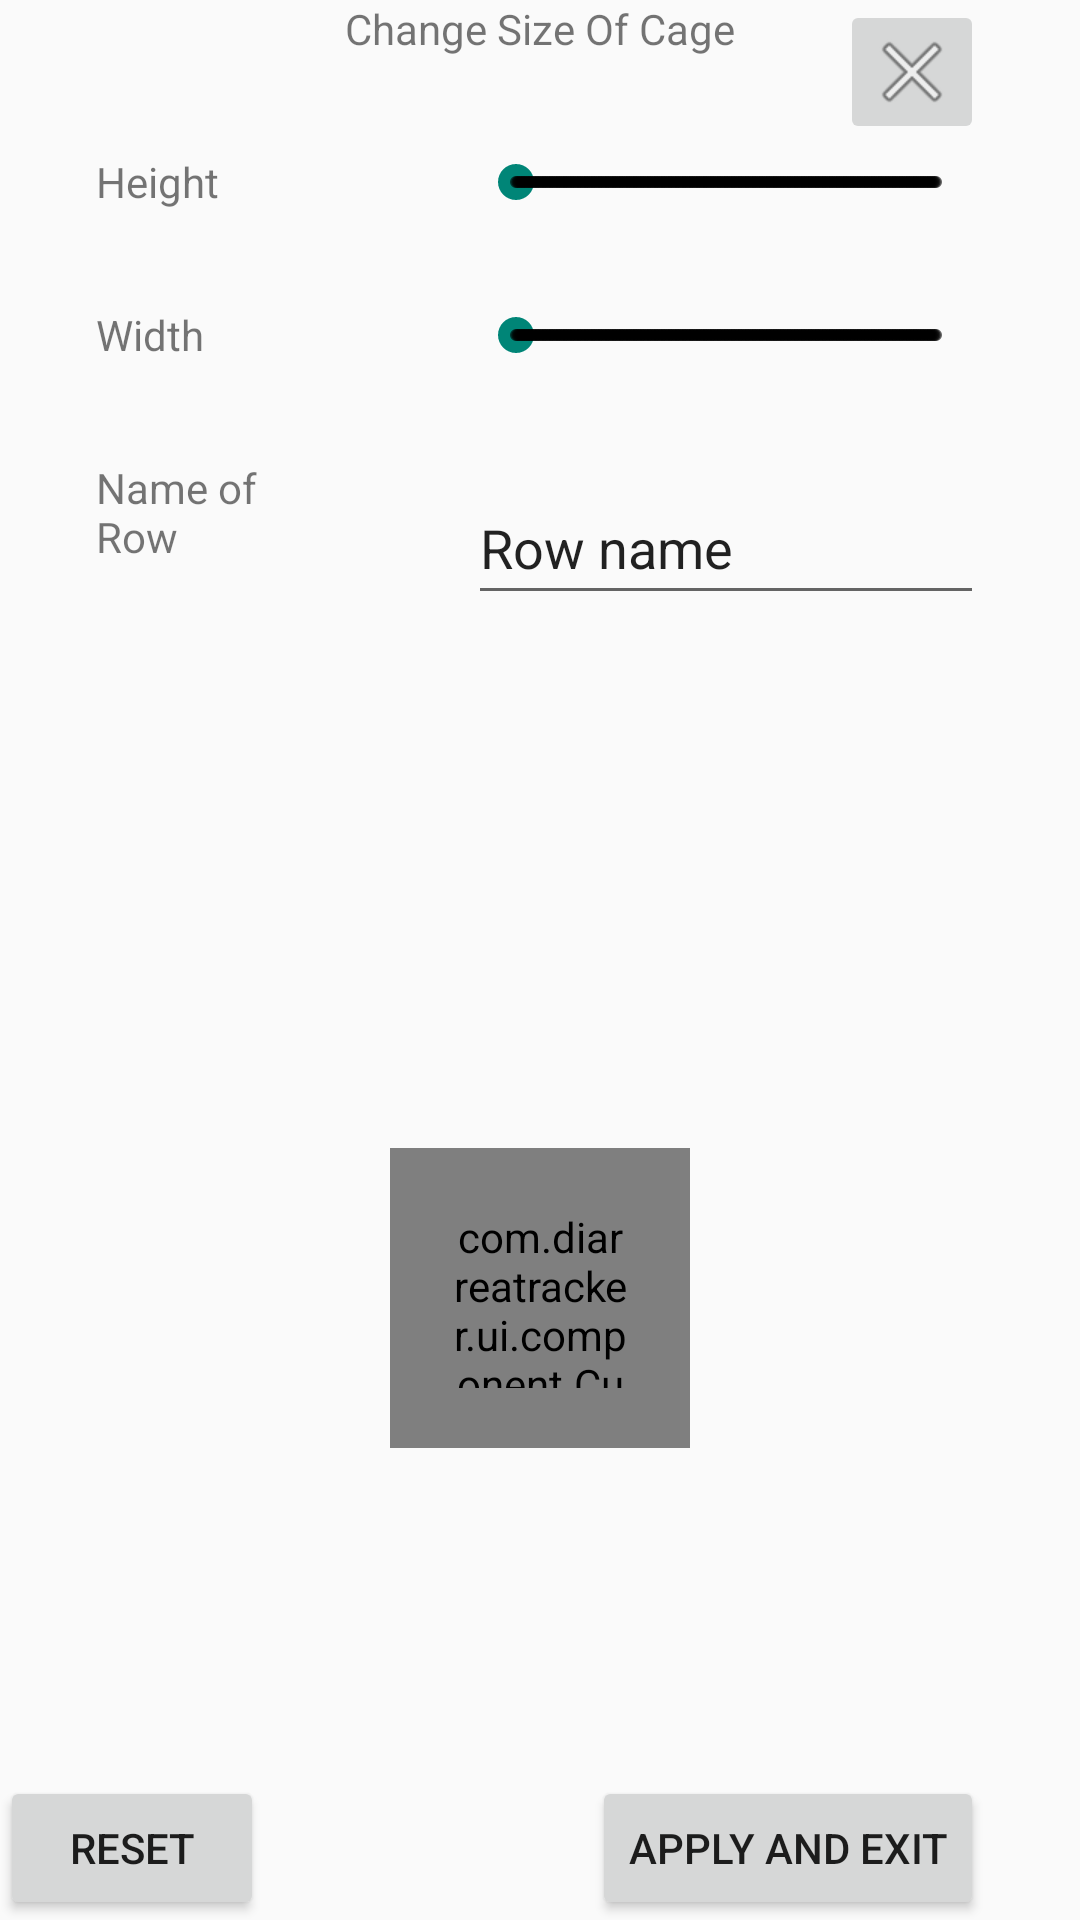

Locate icon controls on the screen. Image size 1080 x 1920, boxes as (x1, y1, x2, y2).
close button: (852, 18, 972, 126)
